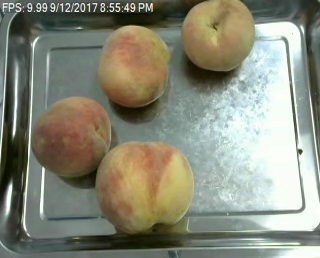Peach: (93, 140, 193, 234), (31, 95, 111, 177), (97, 24, 171, 108), (181, 0, 255, 72)
